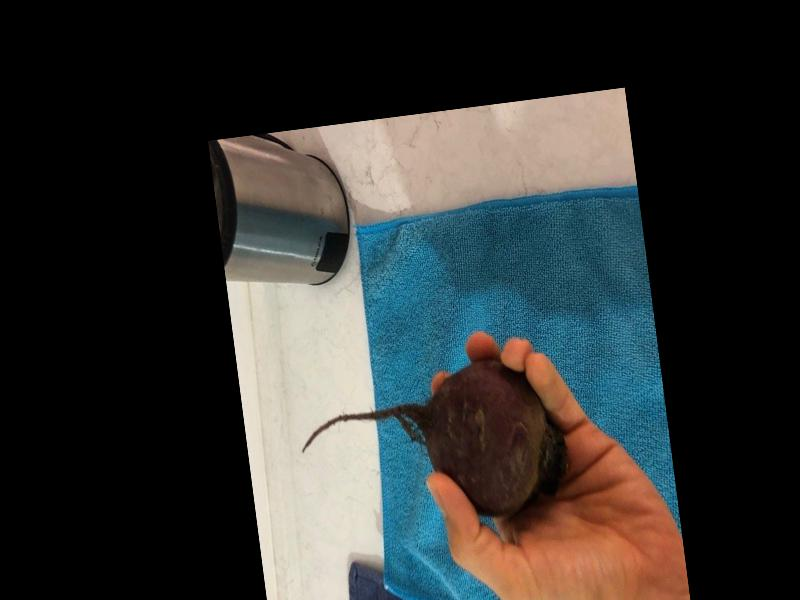Beet: (294, 350, 574, 540)
